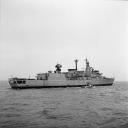Fragata: (9, 56, 117, 91)
